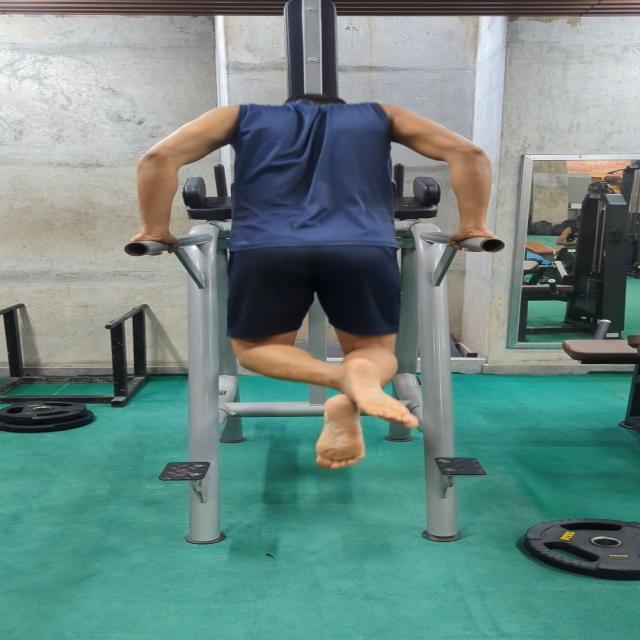Normal_Dips: (124, 89, 501, 468)
